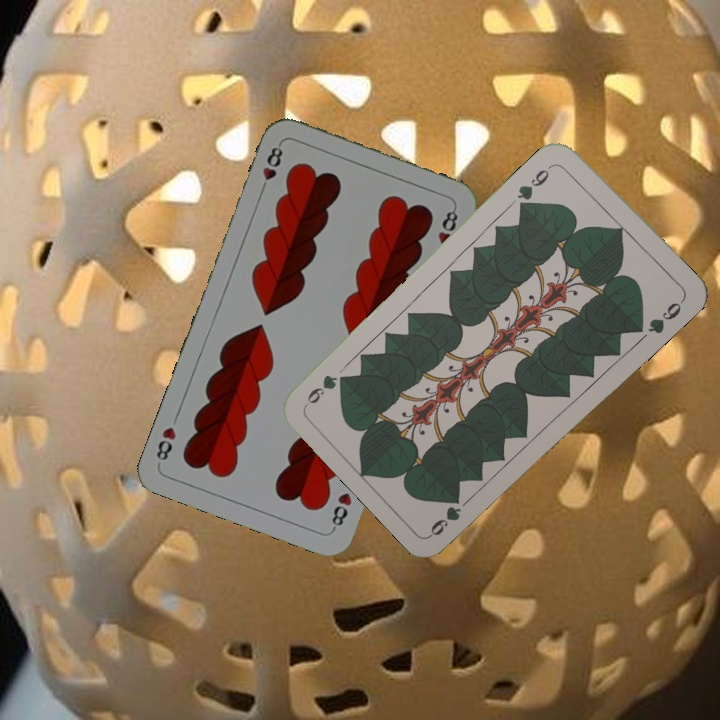G9: (512, 159, 557, 208), (426, 491, 464, 539)
H8: (256, 139, 286, 196), (327, 488, 355, 533)
